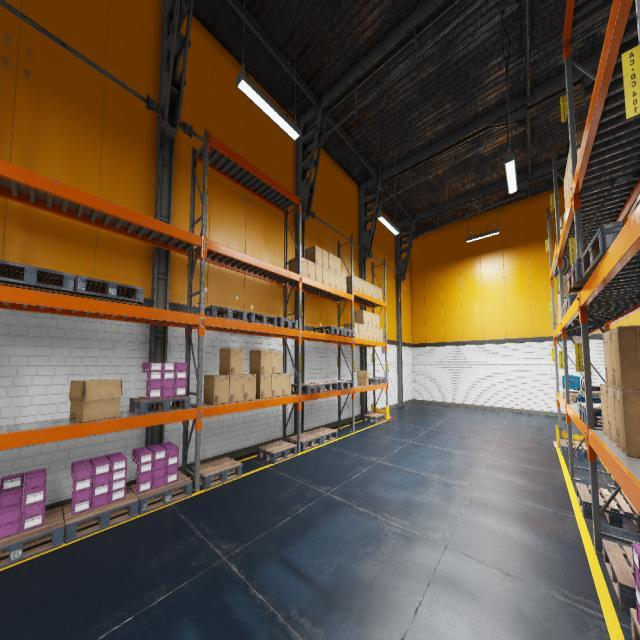box: (600, 325, 639, 443), (67, 373, 122, 422), (260, 350, 281, 374), (271, 374, 291, 396), (213, 375, 228, 404), (230, 348, 243, 375), (230, 374, 243, 401), (243, 373, 255, 400), (260, 375, 271, 398), (329, 255, 341, 272), (363, 313, 380, 325), (353, 277, 363, 292), (300, 259, 308, 277), (372, 286, 382, 299), (307, 262, 315, 278), (322, 251, 329, 269), (315, 247, 322, 265), (364, 281, 372, 296), (315, 266, 322, 281), (375, 329, 383, 342), (360, 326, 368, 339), (368, 328, 375, 341)
